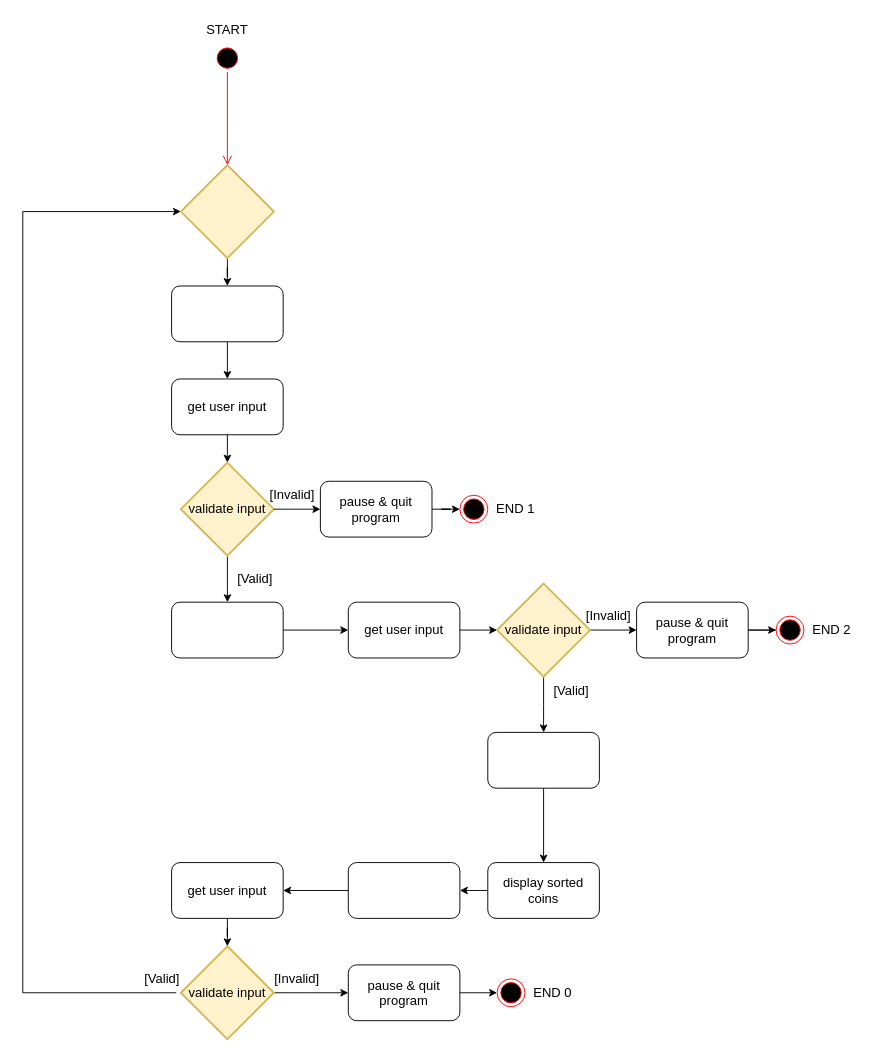
Some shapes in this 876 by 1056 pixel diagram are drawn without their labels. The shapes that lost their labels are listed below. From the top down, each one's centre as x and y in pixels, then its label:
(x=227, y=313): prompt user: enter change
(x=227, y=629): prompt user: currency type
(x=543, y=759): sort coins
(x=403, y=890): prompt user: try again
